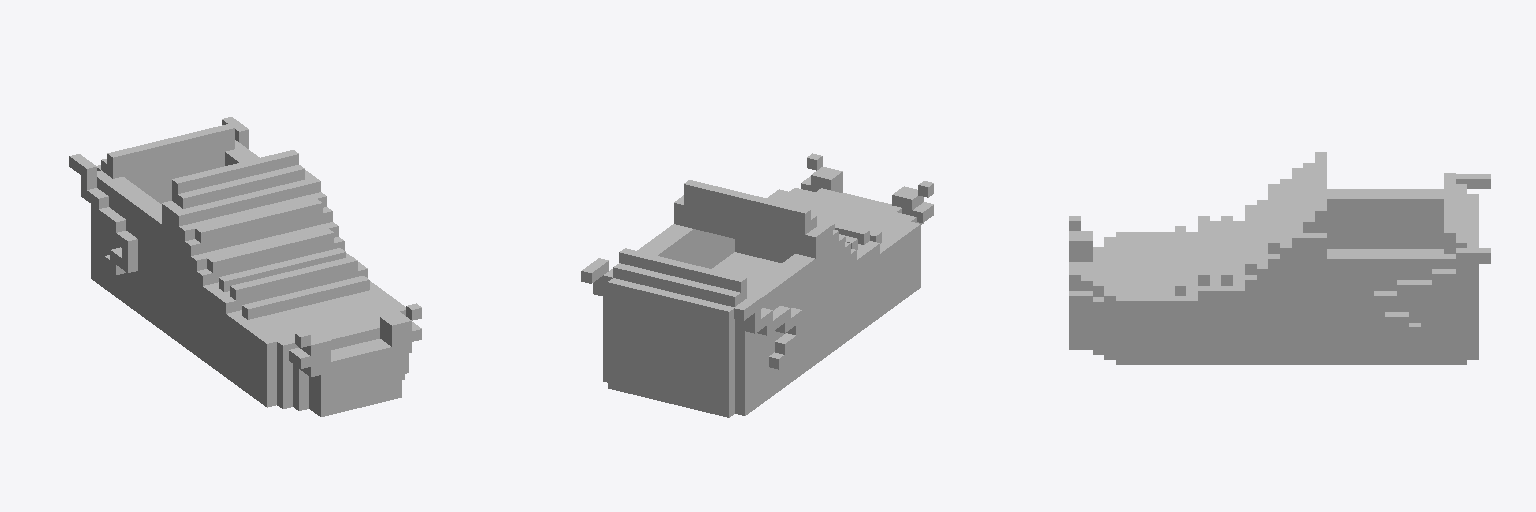
Rendered from Zapatos2.obj.
3 views of the same model, side by side, from view 1: azimuth 30°, elevation 25°; view 2: azimuth 150°, elevation 25°; view 3: azimuth 270°, elevation 25° (orthographic).
Visible parts, largest first — view 1: object 1; view 2: object 1; view 3: object 1.
Boxes of the visible parts, x1,y1,x2,y2 form: object 1: [69, 117, 421, 416]; object 1: [581, 153, 933, 417]; object 1: [1069, 152, 1490, 364].
Bounding box in the file's own units: 1.6 × 1.4 × 3.6.